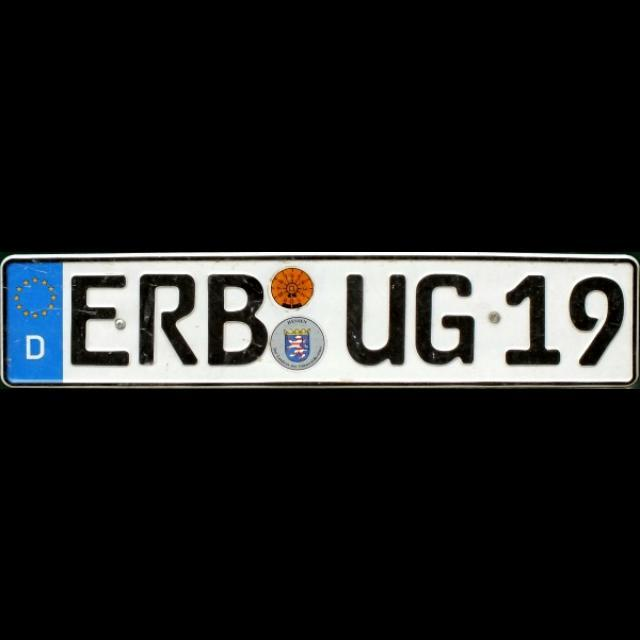license-plates: (1, 255, 640, 387)
